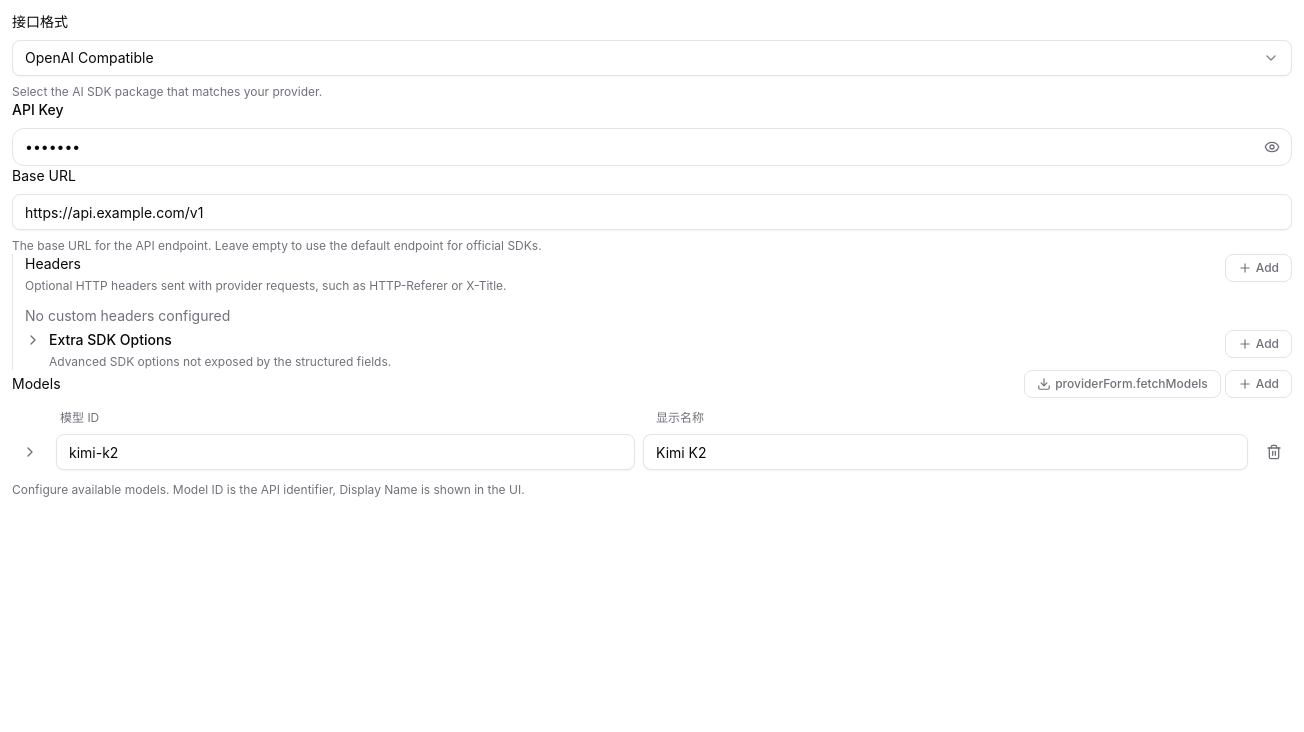
Test: OpenCodeFormFields › surfaces existing model token limits
Click the button named "Toggle model details" at (30, 452), box [12, 434, 48, 470]
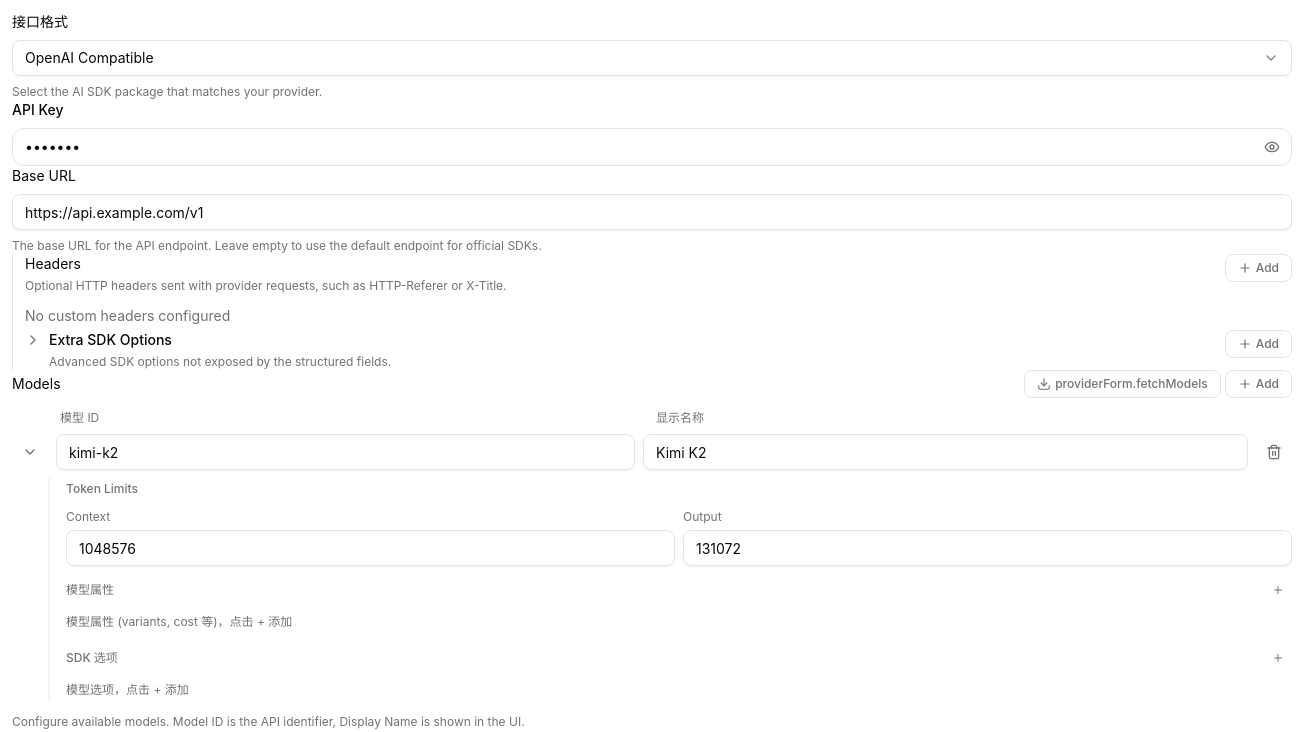
Result: the number field labelled "Context" holds "1048576" at [66, 530, 675, 566]
Result: the number field labelled "Output" holds "131072" at [683, 530, 1292, 566]
